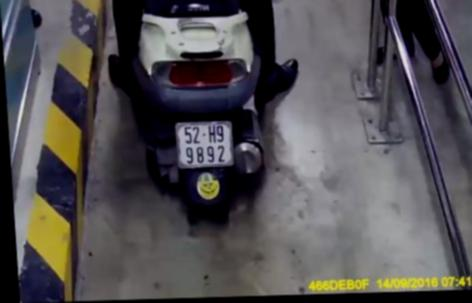License_Plate: (166, 115, 241, 173)
